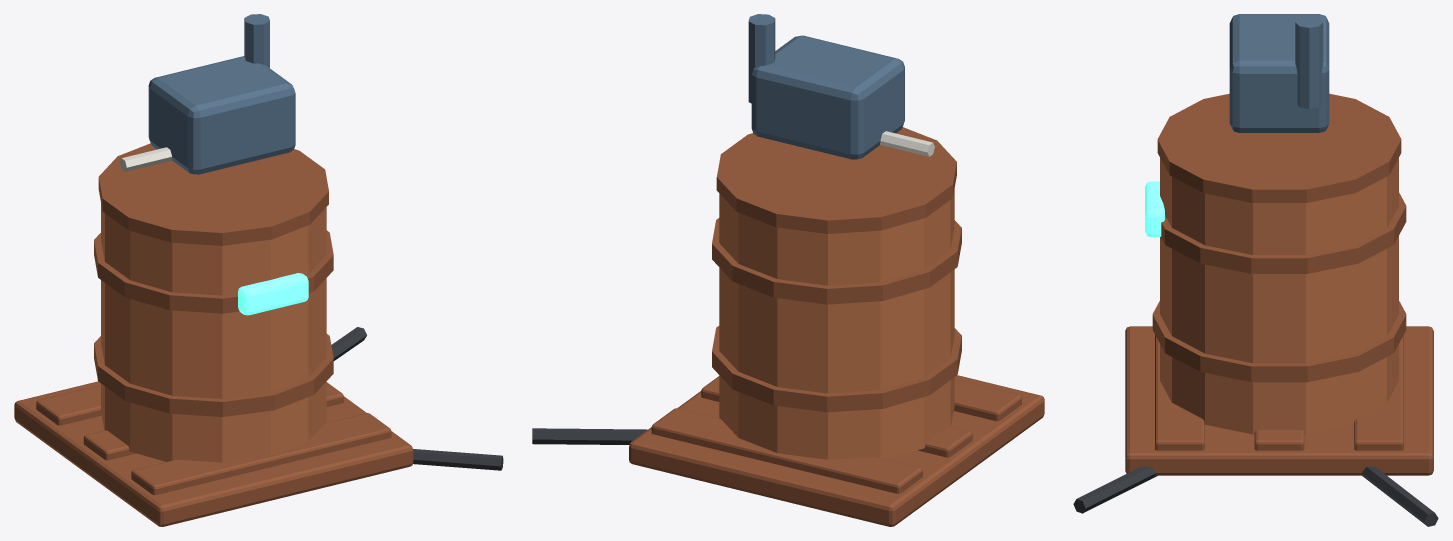
File: sod_generator.glb
The picture shows the model from 3 angles, left to right: view 1: azimuth 30°, elevation 25°; view 2: azimuth 150°, elevation 25°; view 3: azimuth 270°, elevation 25°; orthographic projection. The views are drawn at different scales.
Visible parts, largest first — view 1: sod_generator; view 2: sod_generator; view 3: sod_generator.
Boxes of the visible parts, box(x1,y1,x2,y2) form: sod_generator: box(14, 14, 503, 526); sod_generator: box(532, 14, 1044, 526); sod_generator: box(1073, 14, 1438, 526).
Size of the model in its own units: 0.8507 by 0.9339 by 0.7335.
